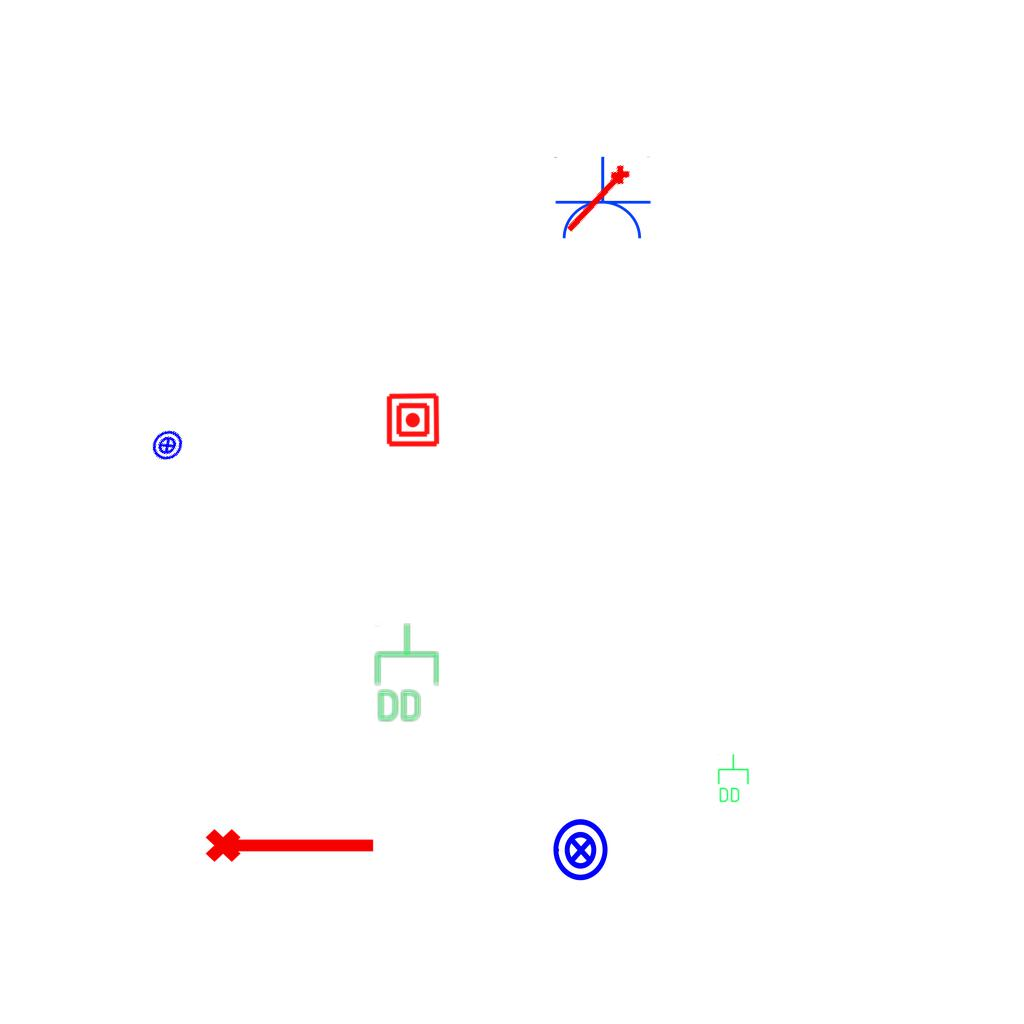ASR_Ansaugoeffnung: (203, 820, 379, 866), (559, 160, 637, 241)
Datenanschluss_zweifach: (372, 621, 441, 724), (716, 753, 750, 804)
NAM-Nichtautomatischer_Melder: (385, 392, 441, 448)
Schukosteckdose_einfach: (552, 156, 652, 243)
Taster_beleuchtet: (548, 817, 614, 883), (144, 422, 191, 469)
